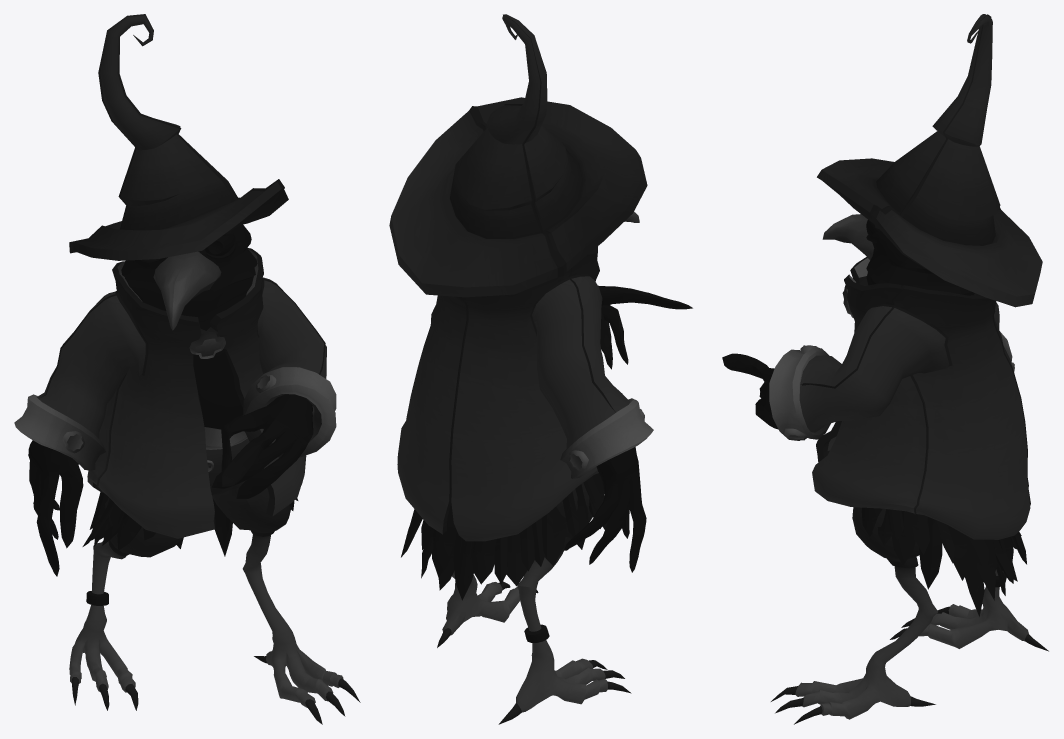
3 renders of one model, left to right at view 1: azimuth 30°, elevation 25°; view 2: azimuth 150°, elevation 25°; view 3: azimuth 270°, elevation 25°, orthographic. The views are drawn at different scales.
Parts seen in each view (by area): view 1: pasted__L_Eye_pasted__polySurface122; view 2: pasted__L_Eye_pasted__polySurface122; view 3: pasted__L_Eye_pasted__polySurface122.
Part boxes in pixels (box(x1,y1,x2,y2)): pasted__L_Eye_pasted__polySurface122: box(14, 14, 360, 724); pasted__L_Eye_pasted__polySurface122: box(389, 14, 692, 724); pasted__L_Eye_pasted__polySurface122: box(722, 14, 1048, 724).
Bounding box in the file's own units: 0.9626 × 2.38 × 1.09.
1 material, 1 textured.
